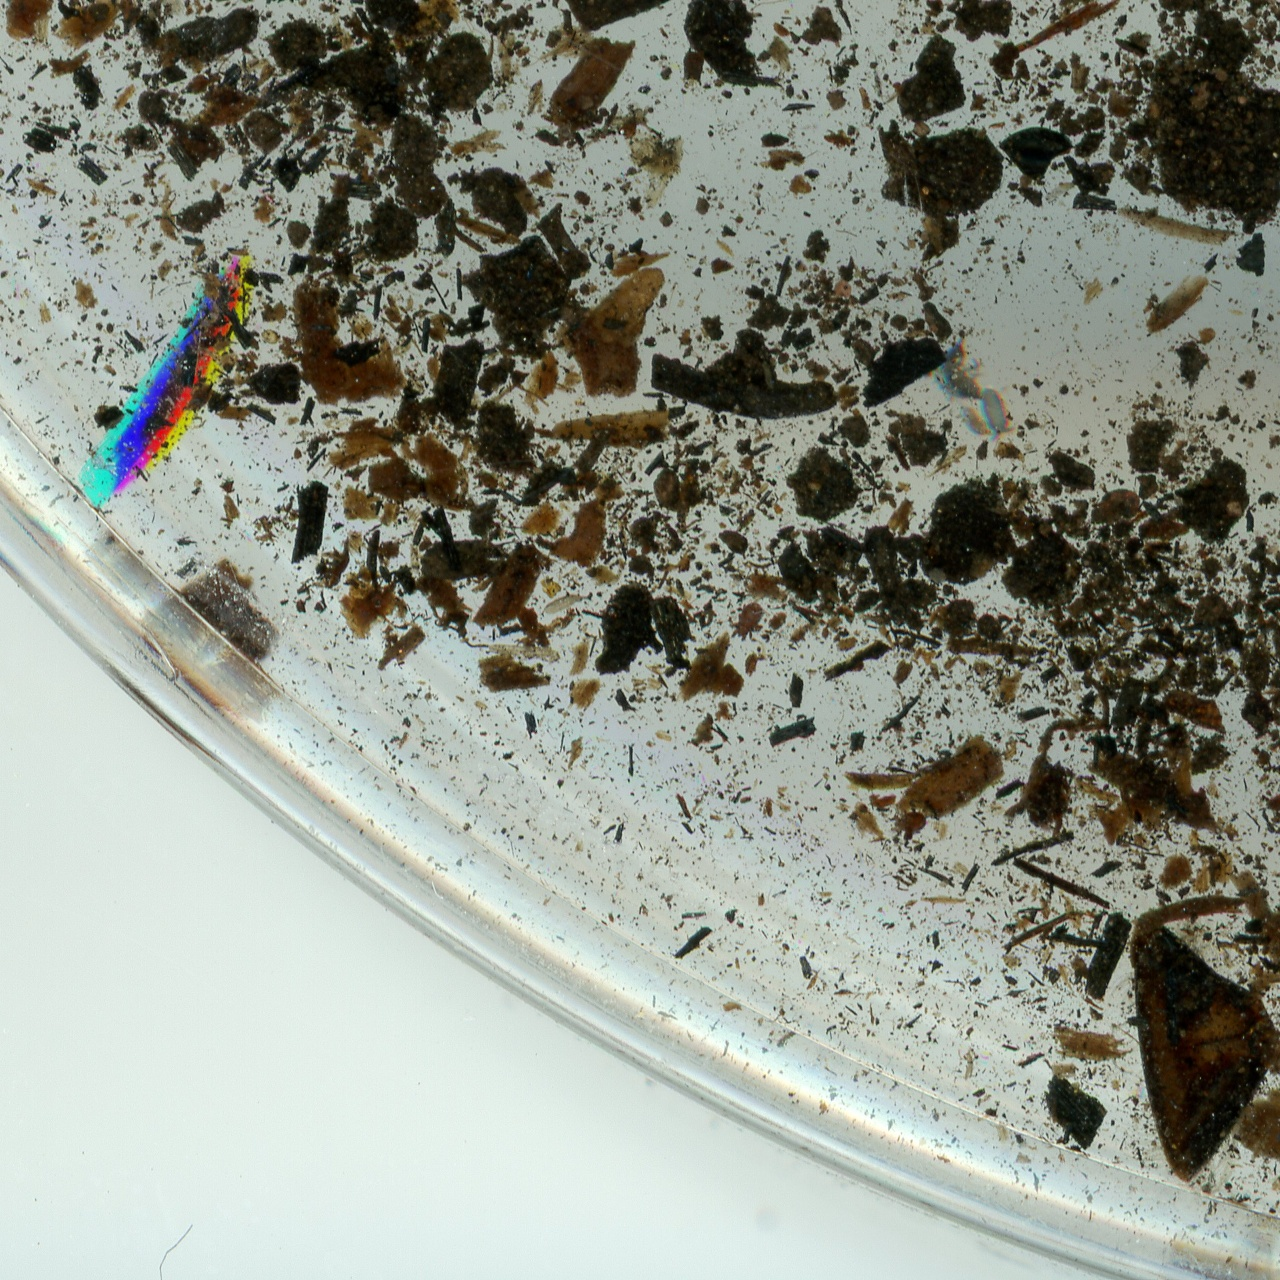arthropod: (937, 333, 984, 408), (971, 380, 1019, 446), (534, 582, 594, 625), (725, 594, 769, 647), (959, 400, 994, 441), (889, 807, 928, 840)
